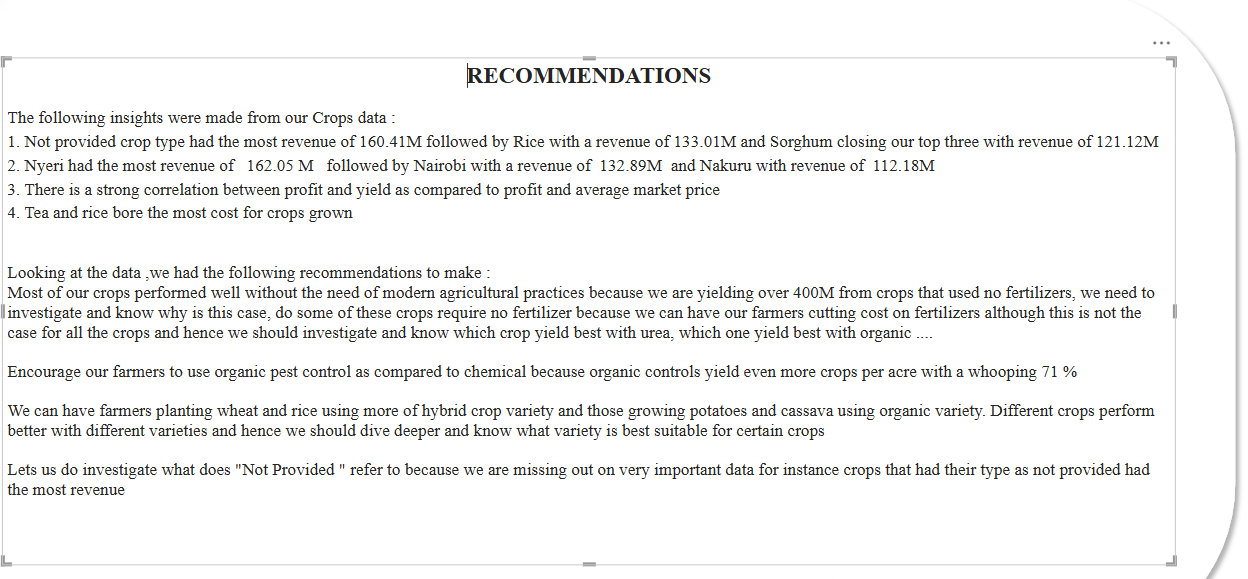

The dashboard page shown, as its layout file describes it:
{"tool":"powerbi","page":{"name":"Recommendations","canvas":[1280,720],"ordinal":4},"visuals":[{"type":"shape","box":[30.4,28.3,1203.3,629.4],"z":0},{"type":"textbox","box":[79.7,99.7,1090,472.1],"z":1000}]}

Visuals, with their boxes on the page's 1280x720 design canvas (x1, y1, x2, y2). These are canvas units, not pixel positions in the 1248x579 screenshot, which may show the page scaled, cropped or inside an application window:
shape: BBox(30, 28, 1234, 658)
textbox: BBox(80, 100, 1170, 572)
